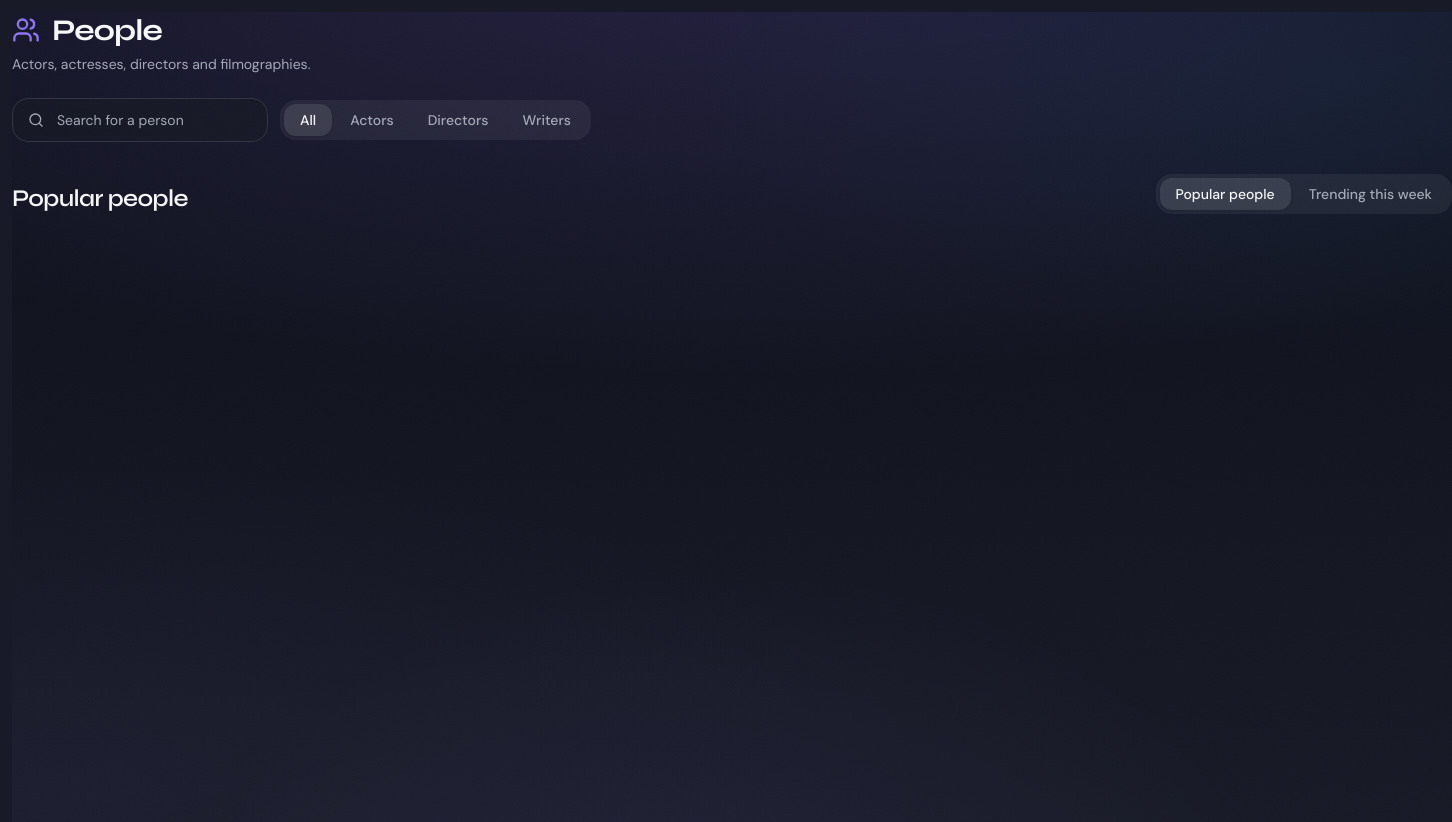
Test: PeoplePage › switches to the trending-people list when that mode is selected
Click the button "Trending this week" at (1370, 194), box left=1293, top=178, right=1448, bottom=210
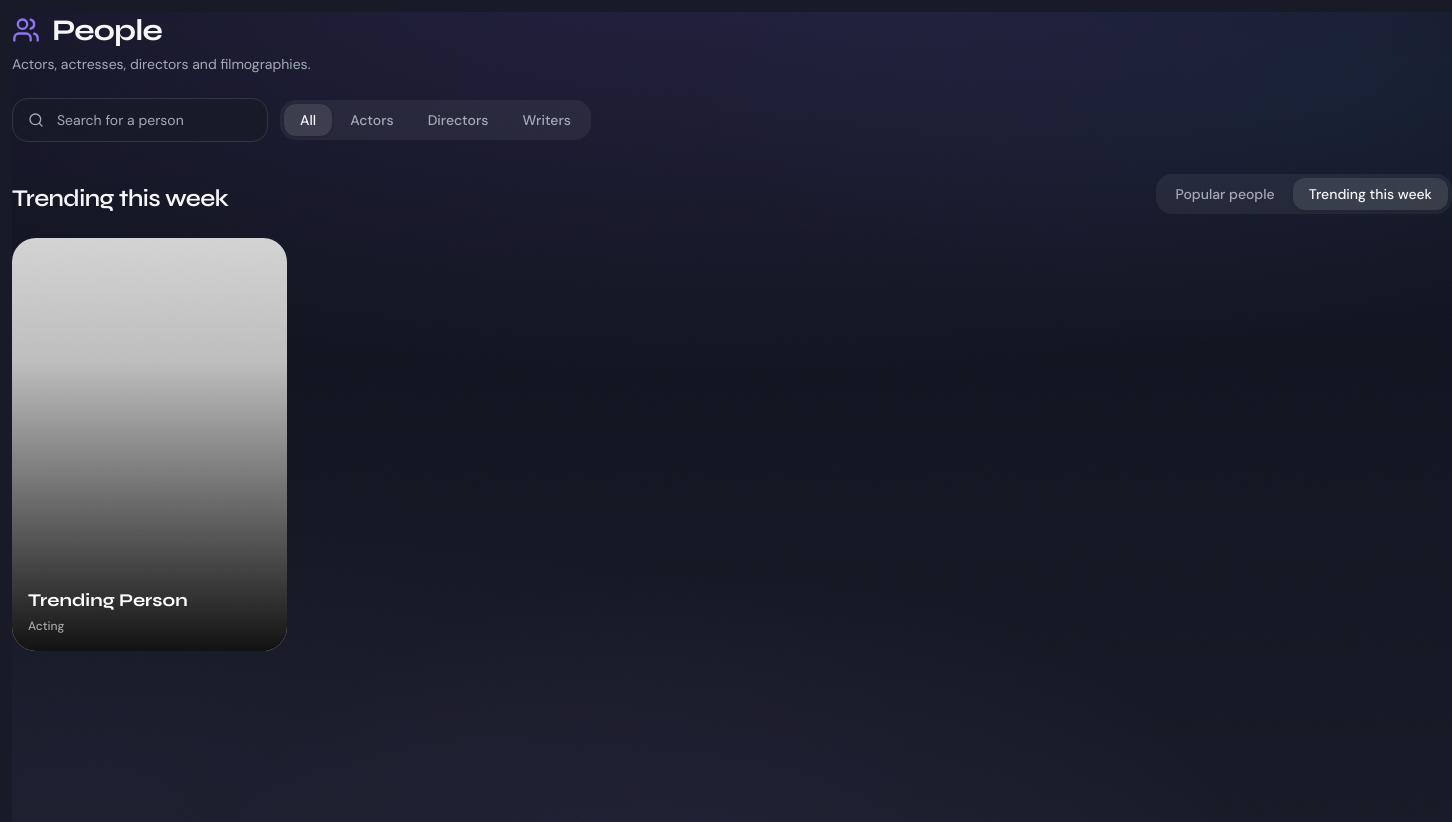
Expected: the heading "Trending this week" is shown, left=12, top=184, right=228, bottom=214
Expected: the text "Trending Person" is shown, left=28, top=590, right=188, bottom=612
